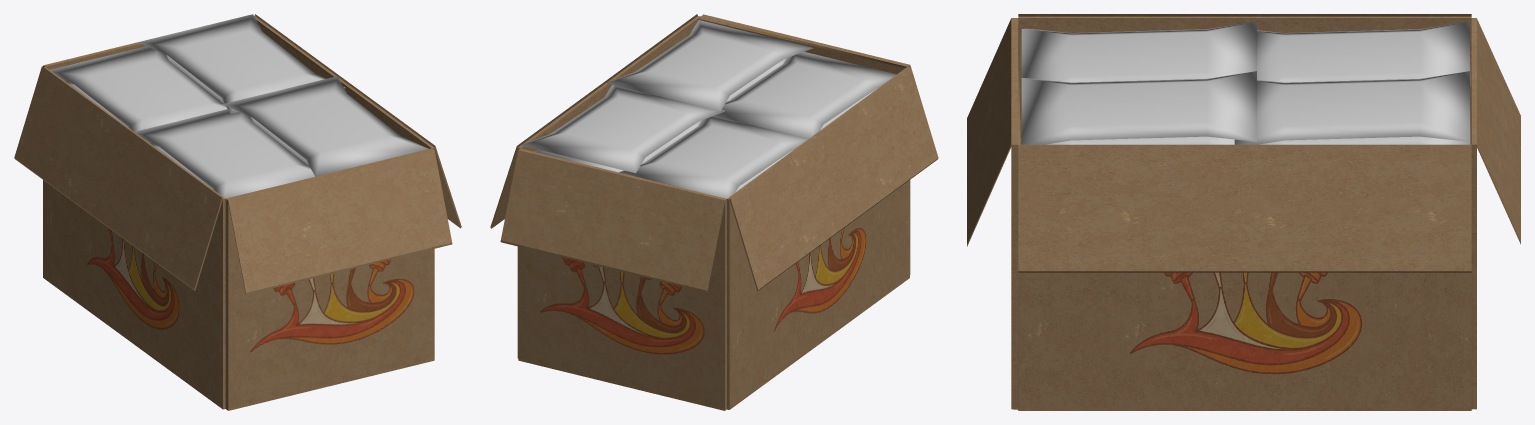
The model's file is CheeseBox.fbx.
3 renders of one model, left to right at view 1: azimuth 30°, elevation 25°; view 2: azimuth 150°, elevation 25°; view 3: azimuth 270°, elevation 25°, orthographic. The views are drawn at different scales.
Visible parts, largest first — view 1: Box.001; view 2: Box.001; view 3: Box.001.
Boxes of the visible parts, x1=… form: Box.001: x1=14, y1=14, x2=461, y2=410; Box.001: x1=490, y1=14, x2=938, y2=410; Box.001: x1=967, y1=14, x2=1520, y2=410.
Bounding box in the file's own units: 76.43 × 59.21 × 109.
